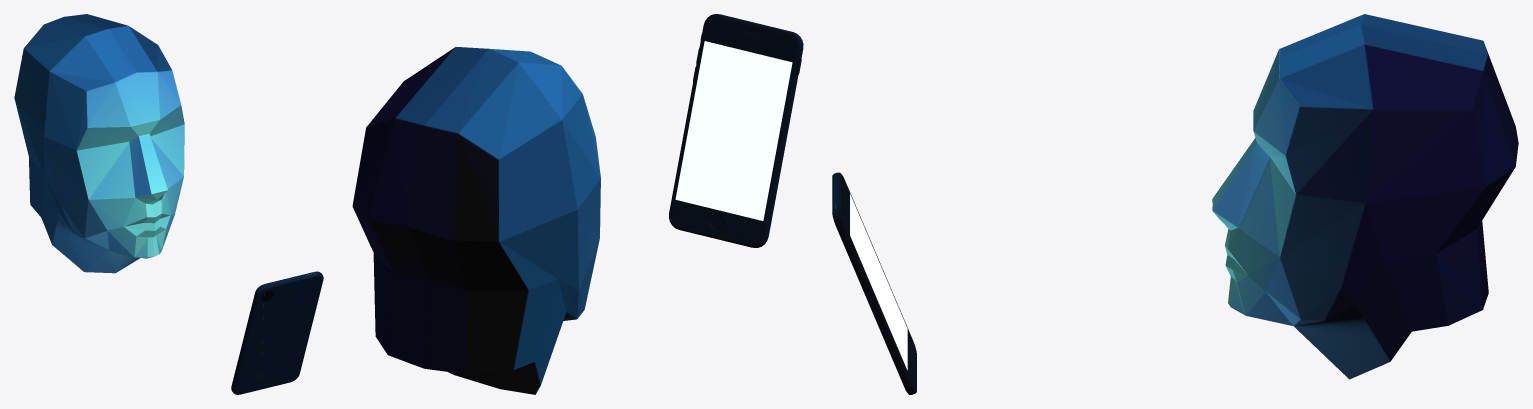
File: scenePhone.glb
3 views of the same model, side by side, from view 1: azimuth 30°, elevation 25°; view 2: azimuth 150°, elevation 25°; view 3: azimuth 270°, elevation 25° (orthographic). The views are drawn at different scales.
Visible parts, largest first — view 1: head, 1327 iPhone; view 2: head, 1327 iPhone; view 3: head, 1327 iPhone.
Boxes of the visible parts, x1,y1,x2,y2 form: head: (14,14,184,273); 1327 iPhone: (231,271,323,394); head: (352,47,600,394); 1327 iPhone: (669,14,803,247); head: (1212,14,1518,379); 1327 iPhone: (832,172,916,394).
Bounding box in the file's own units: 3.66 × 6.85 × 12.13.
Materials: 3 (3 with a texture image).
